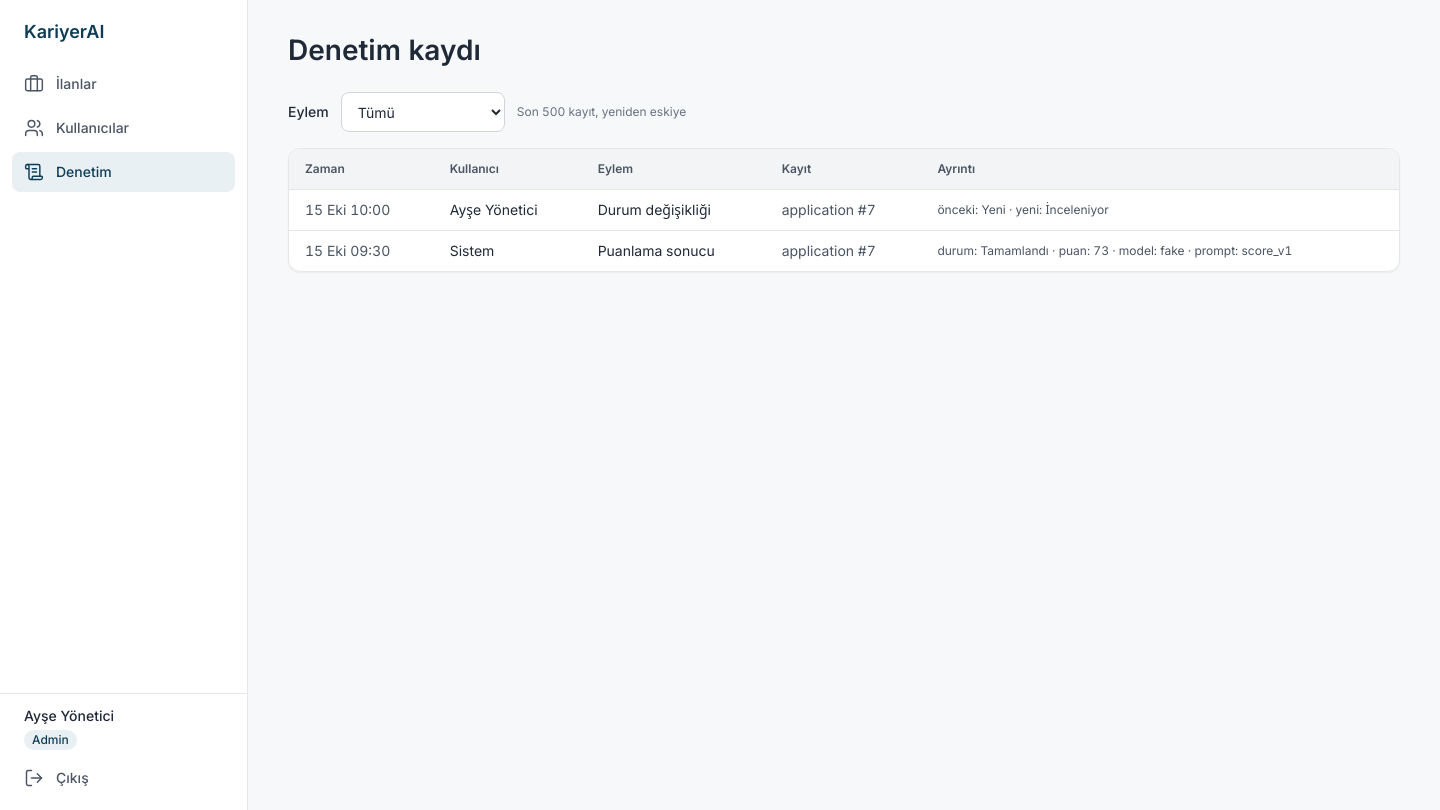
Scenario: AuditPage › admin kayıtları Türkçe eylem adlarıyla görür ve filtreler
Check: the text "Durum değişikliği" is shown, box [582, 190, 766, 230]
Check: the text "Sistem" is shown, box [434, 230, 582, 271]
Select "Puanlama sonucu" in the dropdown labelled "Eylem" at (423, 112), box [341, 92, 505, 132]
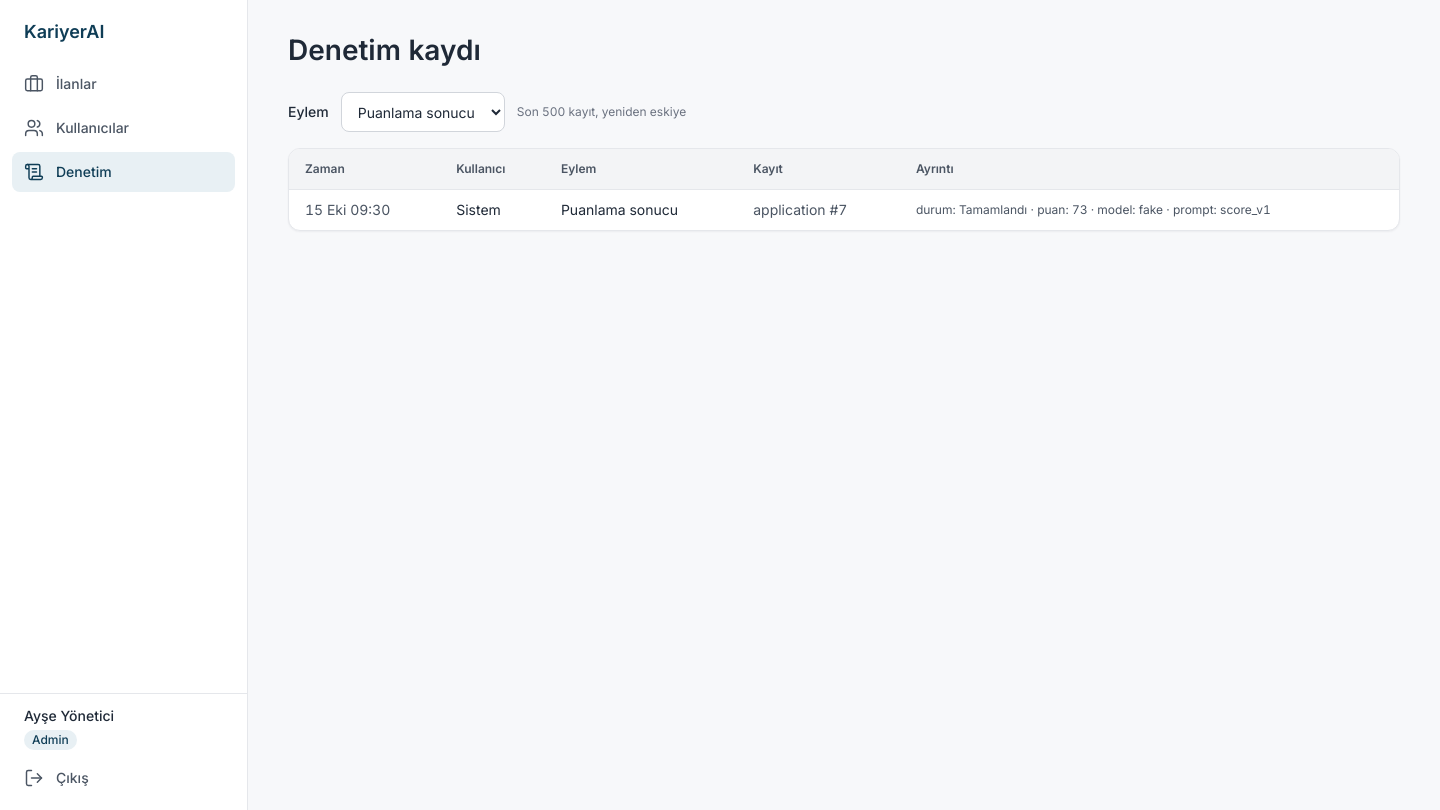
Check: the text "Puanlama sonucu" is shown, box [545, 190, 737, 230]
Check: the text "Durum değişikliği" is gone
